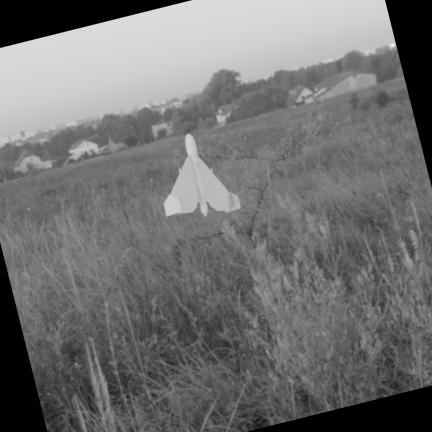Shahed: (164, 134, 240, 215)
